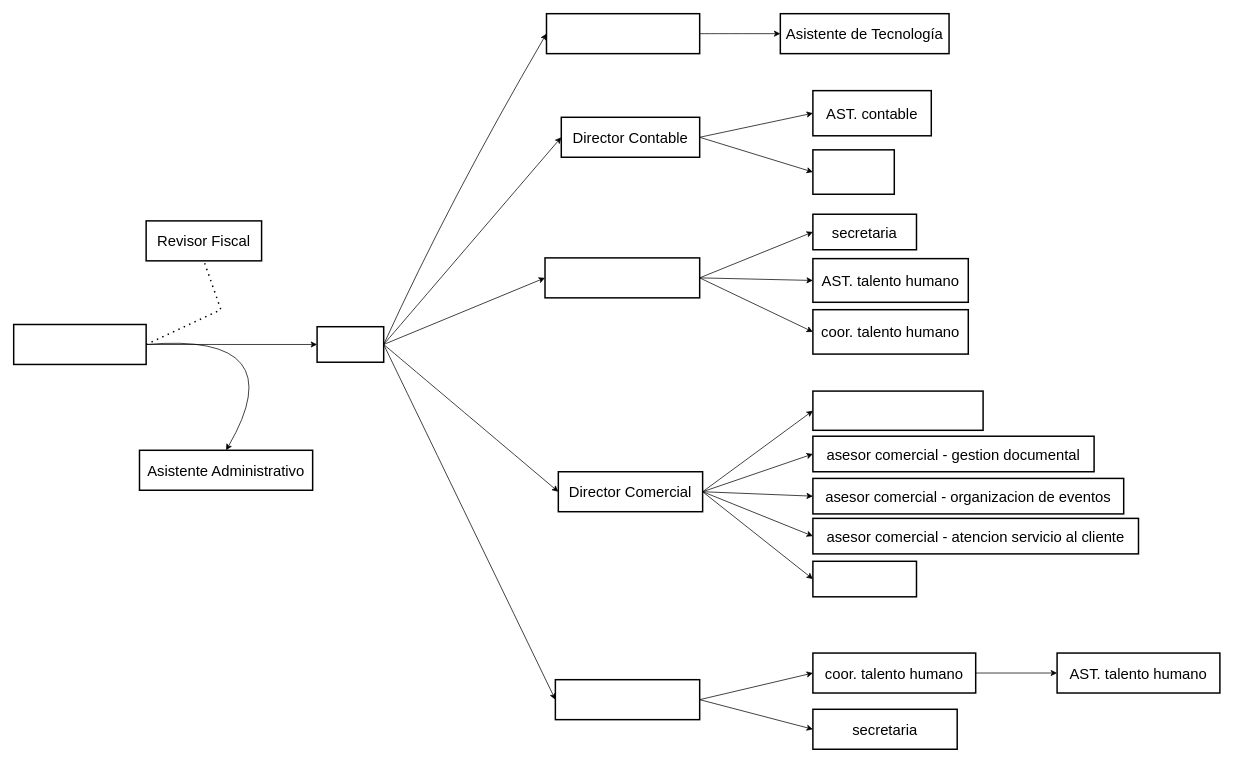
Image size: 1233x762. Some labels were removed from this diagram. Each missing label, with the box of its shape:
asesor comercial - SST: (812, 390, 983, 431)
controla: (316, 326, 384, 363)
Director en administracion: (554, 679, 700, 720)
Director en Logística: (544, 257, 700, 298)
Director Tecnológico: (545, 13, 700, 54)
Gerente General: (13, 323, 147, 365)
marketing: (812, 560, 917, 597)
tesorero: (812, 149, 895, 195)
